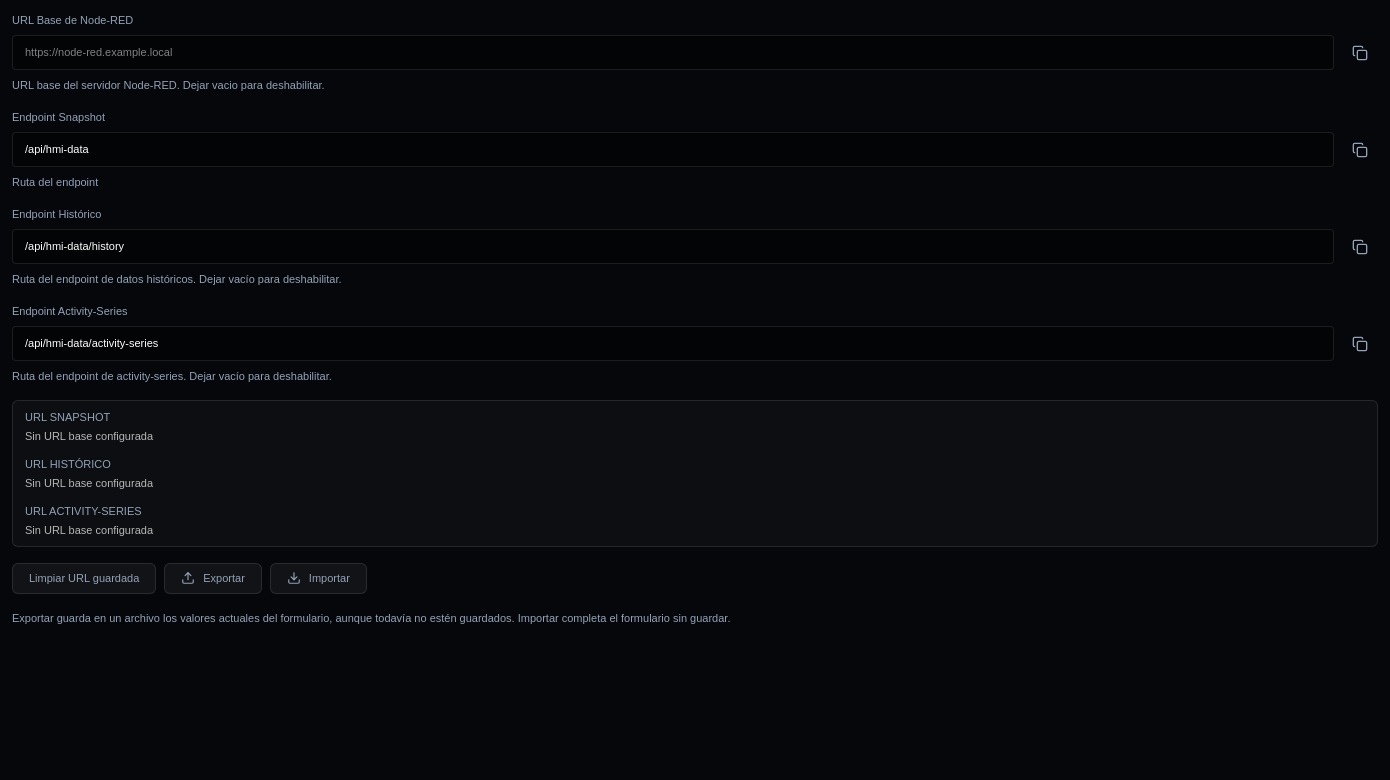
Test case: ConnectionSettingsTab copy buttons › copies the current unsaved value of Endpoint Snapshot
This screenshot has width=1390, height=780.
Type "/api/custom" into the field named "Endpoint Snapshot" at (673, 150), box [12,132,1334,167]
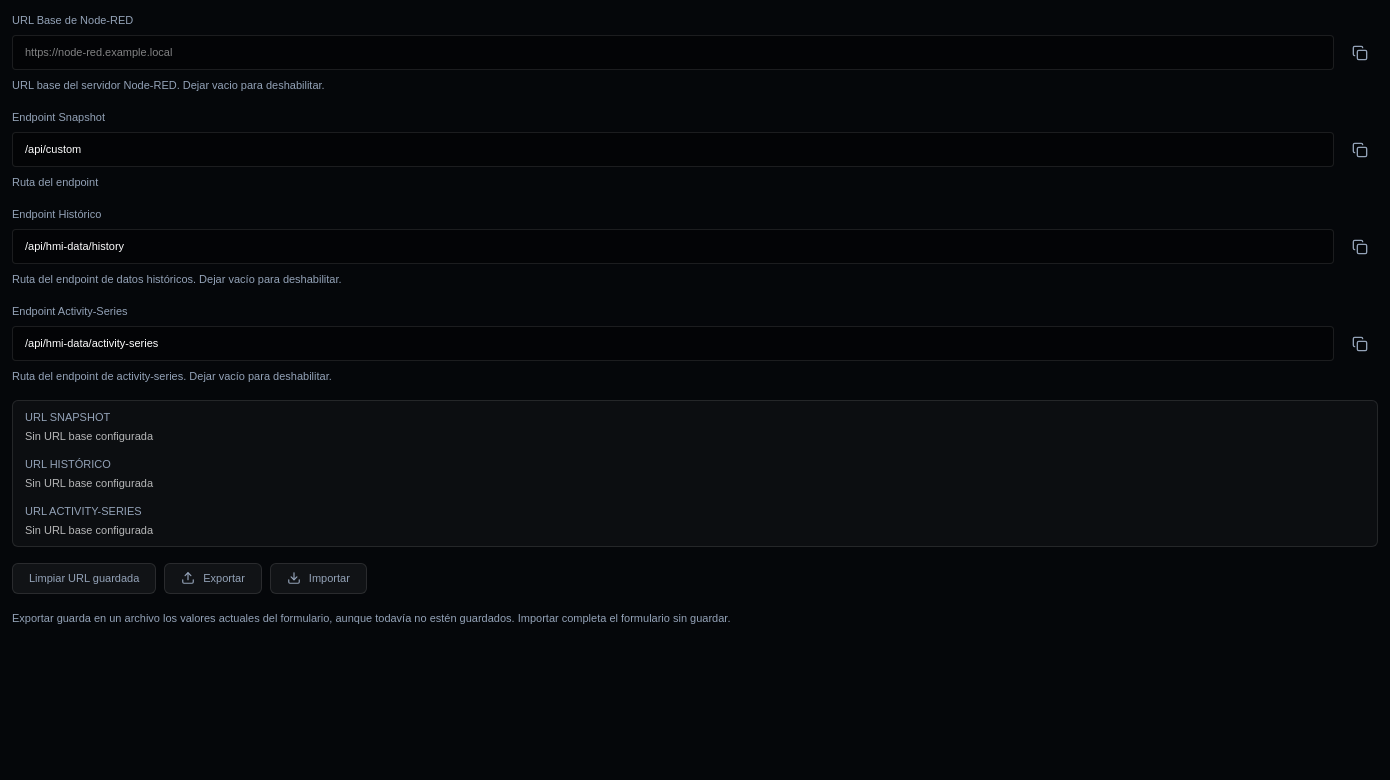
Click the button named "Copiar endpoint snapshot" at (1360, 150), box [1342,132,1378,168]
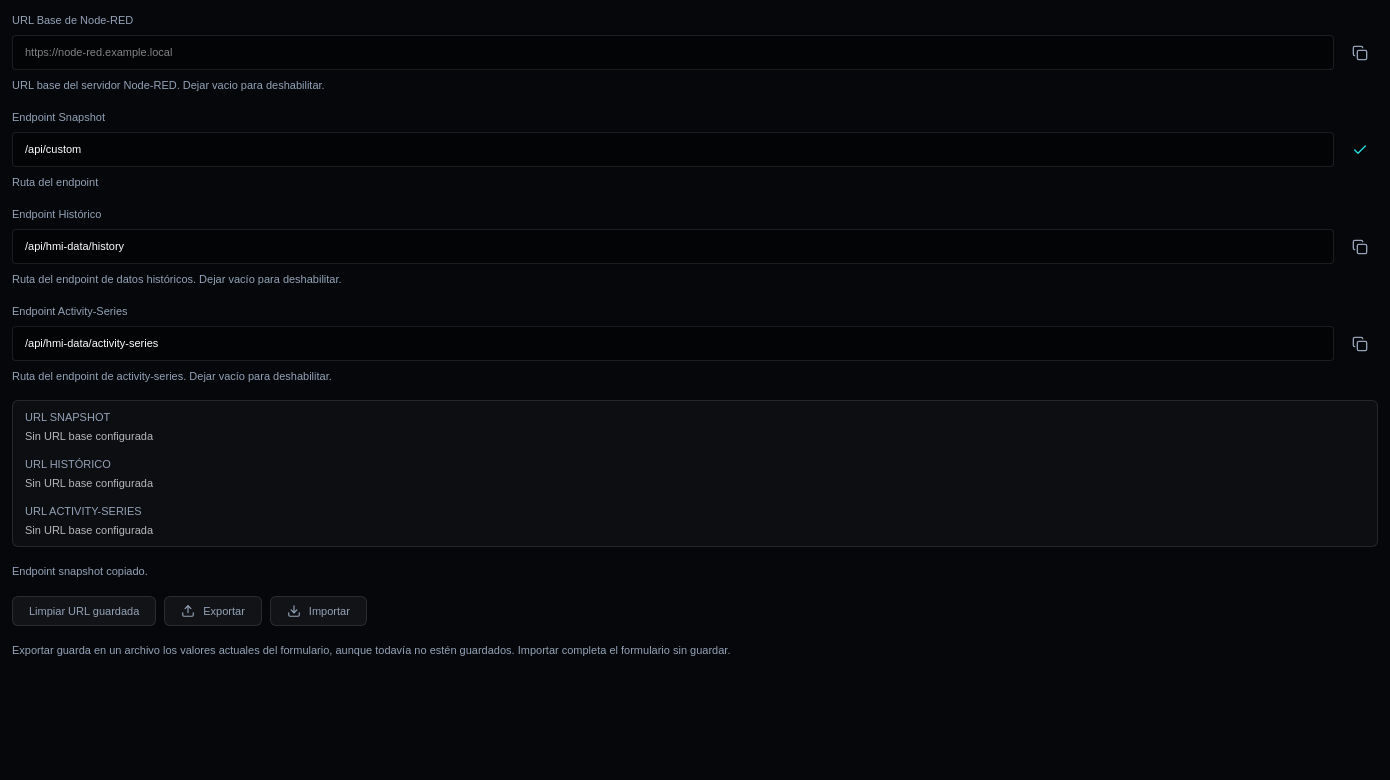
Expected: the message reads "Endpoint snapshot copiado.", [12,565,148,577]
